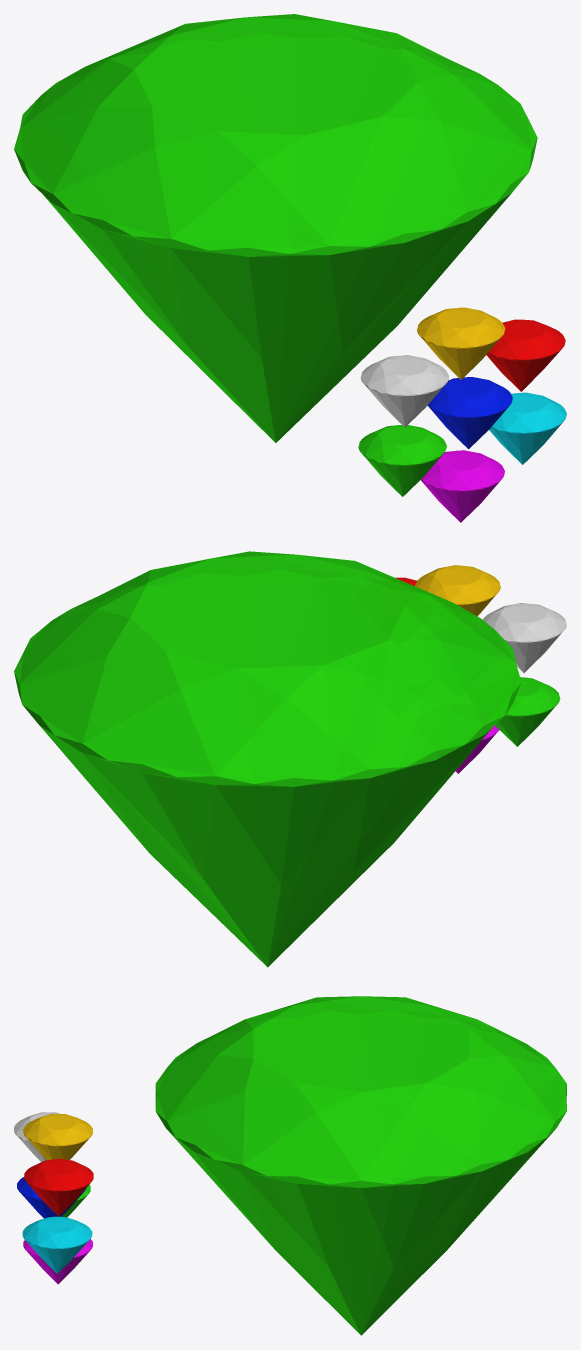
File: Final Emeralds .fbx
3 views of the same model, one above another, from view 1: azimuth 30°, elevation 25°; view 2: azimuth 150°, elevation 25°; view 3: azimuth 270°, elevation 25° (orthographic). The views are drawn at different scales.
Visible parts, largest first — view 1: emerald_8, emerald_6, emerald_5, emerald_3, emerald_2, emerald_1, emerald_4, emerald_7; view 2: emerald_8, emerald_6, emerald_5, emerald_3; view 3: emerald_8, emerald_4, emerald_7, emerald_5, emerald_1, emerald_2, emerald_6.
Boxes of the visible parts, box(x1,y1,x2,y2) form: emerald_8: box(14, 14, 537, 442); emerald_6: box(360, 355, 448, 427); emerald_5: box(417, 307, 505, 379); emerald_3: box(358, 425, 446, 496); emerald_2: box(427, 377, 512, 449); emerald_1: box(421, 450, 504, 522); emerald_4: box(486, 319, 565, 391); emerald_7: box(489, 392, 566, 464); emerald_8: box(14, 551, 521, 967); emerald_6: box(483, 603, 566, 672); emerald_5: box(415, 565, 500, 616); emerald_3: box(495, 677, 560, 746); emerald_8: box(155, 996, 566, 1335); emerald_4: box(24, 1158, 93, 1215); emerald_7: box(22, 1216, 92, 1273); emerald_5: box(23, 1114, 92, 1160); emerald_1: box(23, 1239, 92, 1284); emerald_2: box(17, 1177, 86, 1218); emerald_6: box(14, 1112, 60, 1161).
Bounding box in the file's own units: 15.5 × 12.12 × 20.83.
